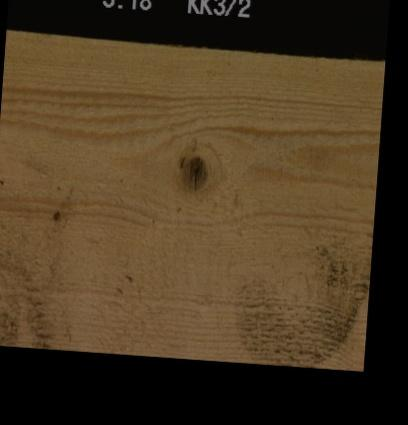small_knot: (47, 202, 64, 224)
sound_knot: (179, 153, 209, 191)
